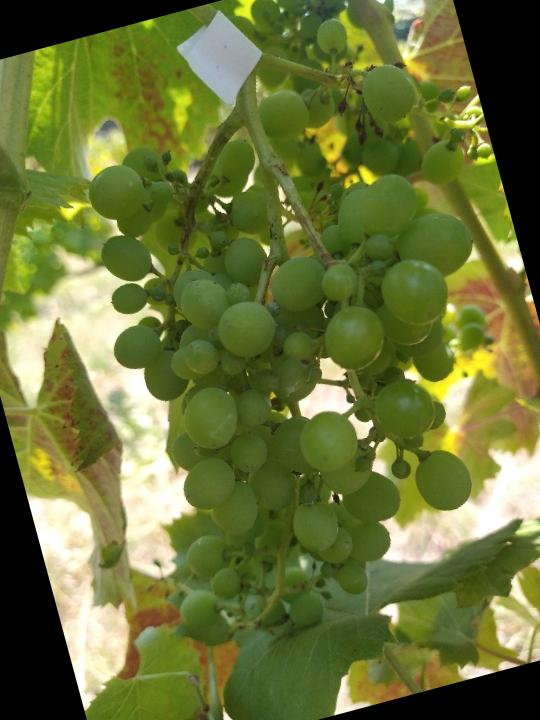grape: (40, 0, 540, 662)
